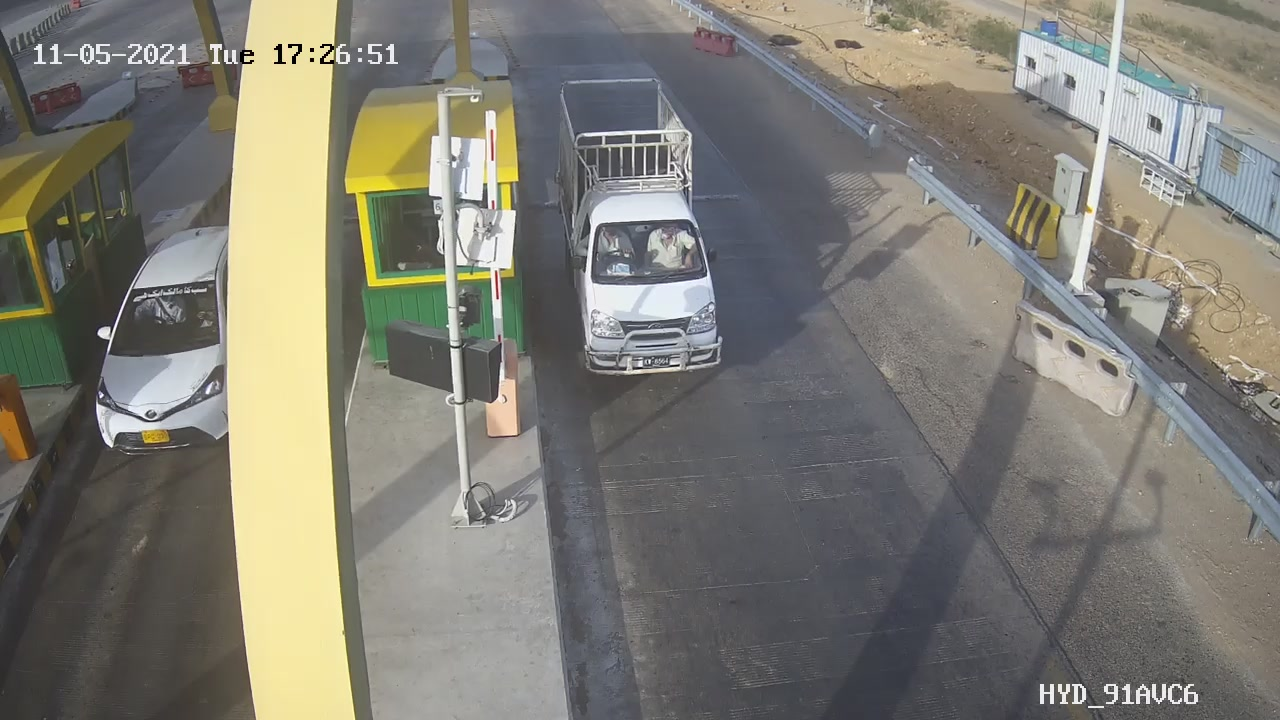F2: (534, 65, 747, 395)
